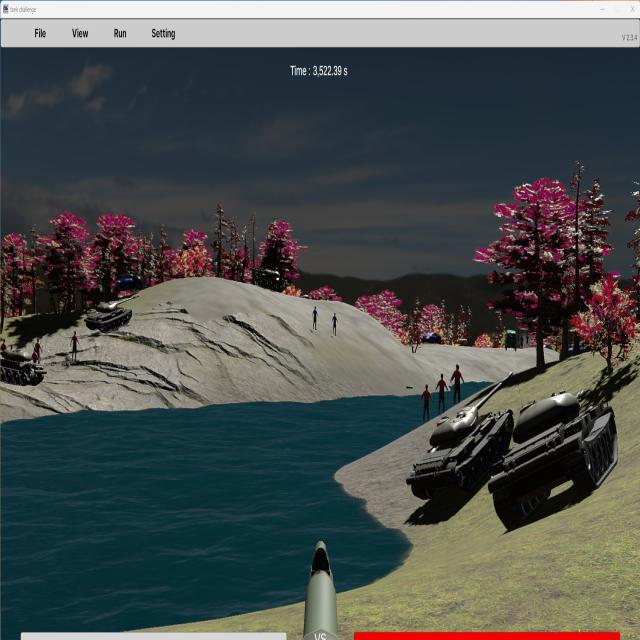Tank: (488, 388, 619, 529), (406, 366, 517, 501), (84, 292, 140, 333), (0, 346, 47, 386)
